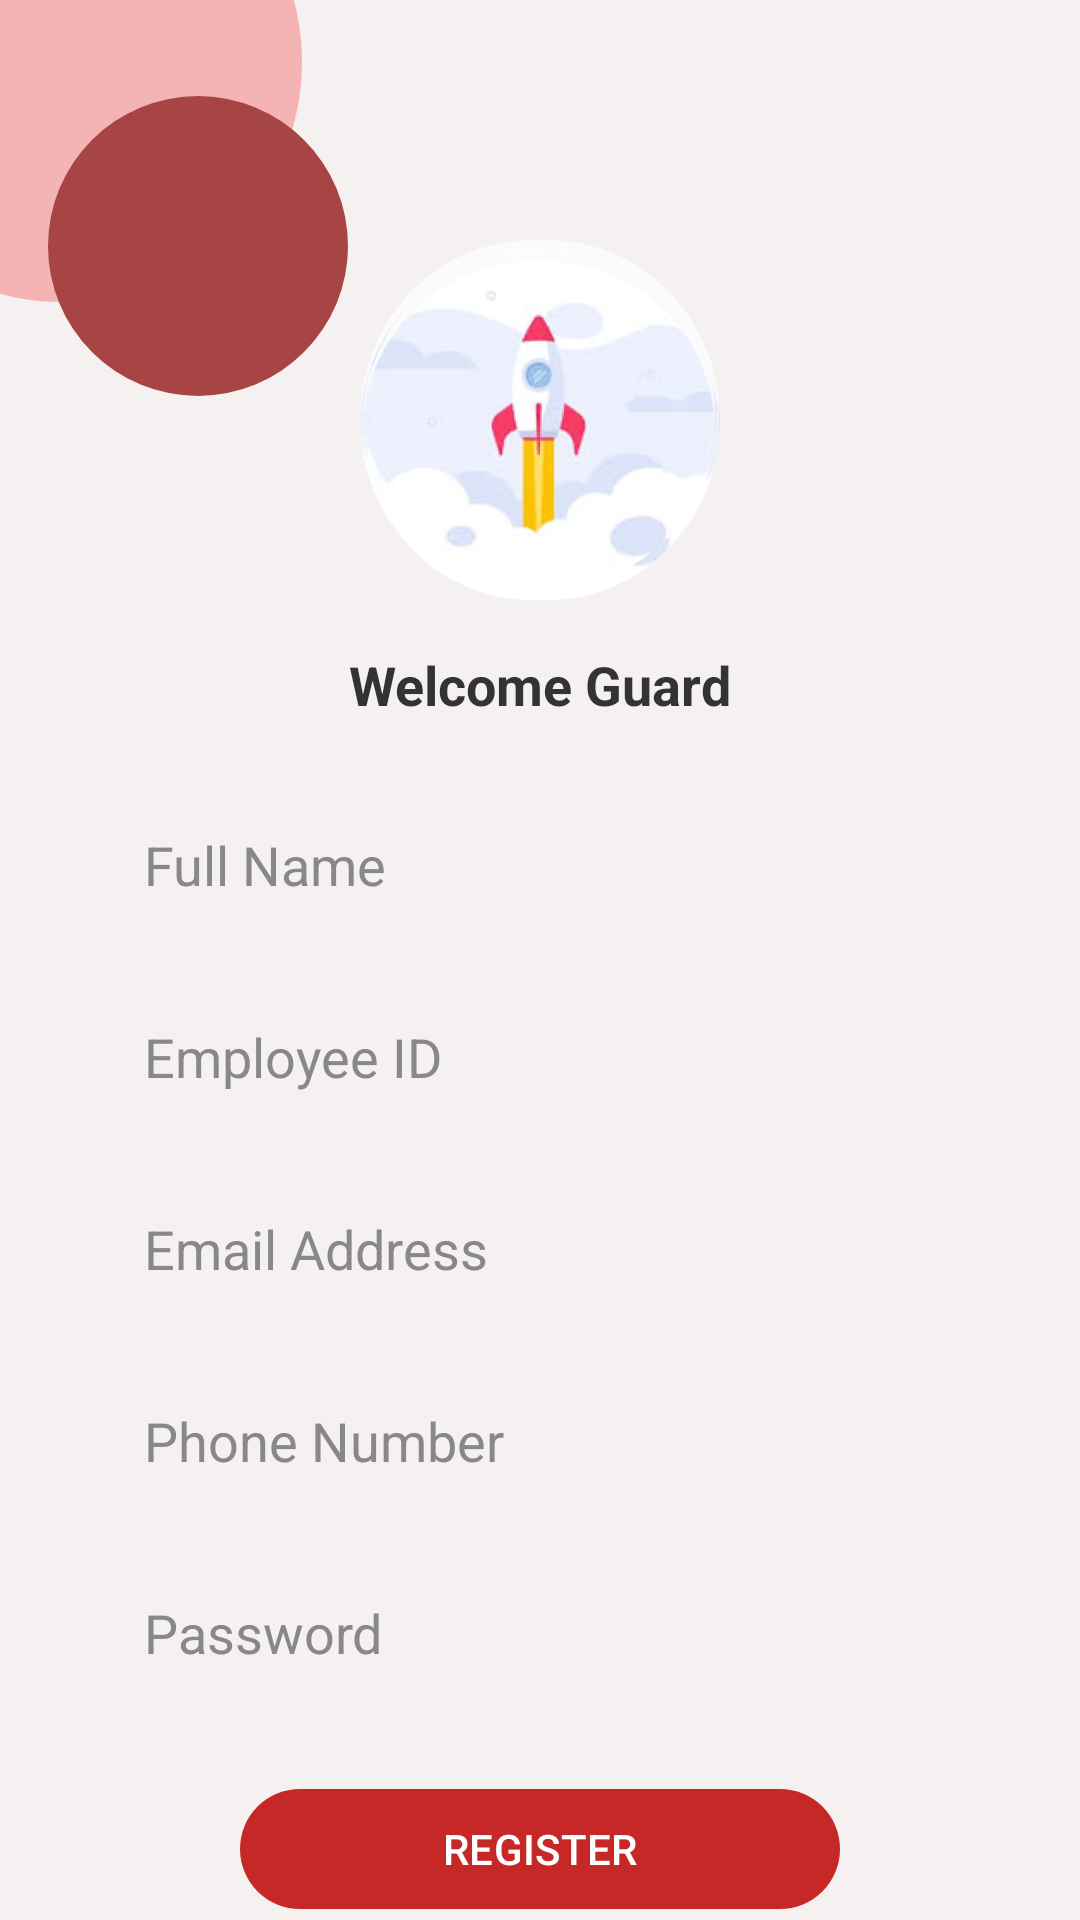

Named icons in this screenshot (1080w x 1920h) and their bounding boxes, (x1, y1, x2, y2):
Guard Profile Image: (360, 240, 720, 600)
